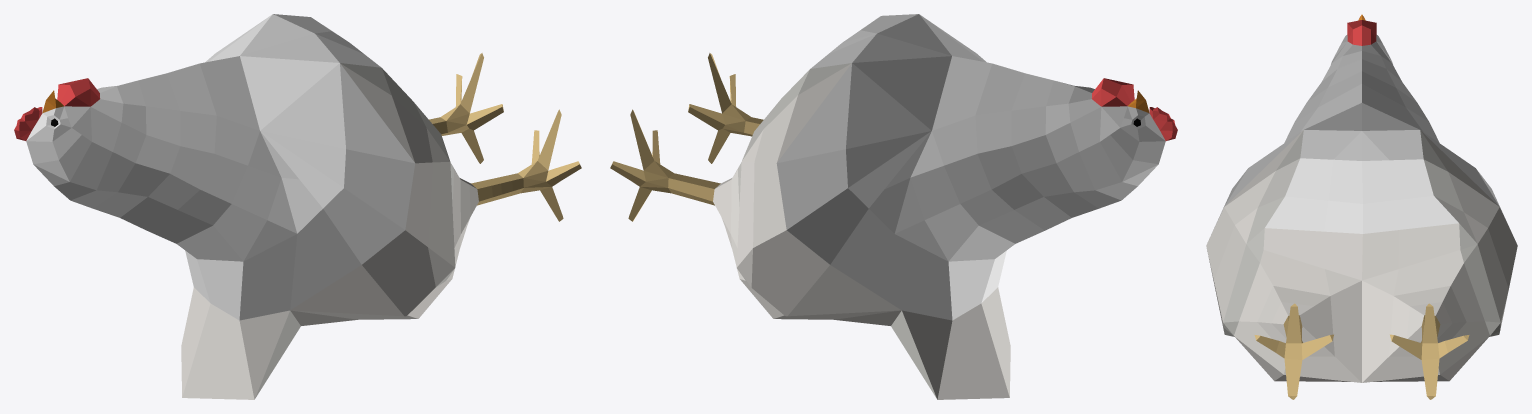
Rendered from NewChicken.fbx.
3 views of the same model, side by side, from view 1: azimuth 30°, elevation 25°; view 2: azimuth 150°, elevation 25°; view 3: azimuth 270°, elevation 25° (orthographic). The views are drawn at different scales.
Parts seen in each view (by area): view 1: Chicken; view 2: Chicken; view 3: Chicken.
Boxes of the visible parts, left/top/right/bottom form: Chicken: left=14, top=14, right=581, bottom=399; Chicken: left=610, top=14, right=1177, bottom=399; Chicken: left=1206, top=14, right=1517, bottom=399.
Bounding box in the file's own units: 350 × 226 × 214.
